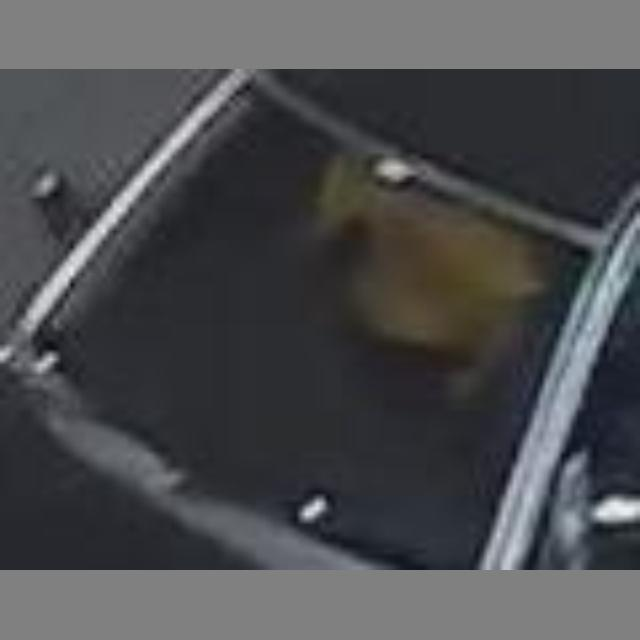tidak-pakai: (267, 149, 544, 394)
